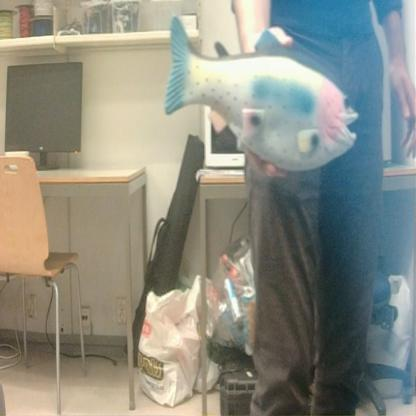rubberfish: (160, 7, 361, 174)
